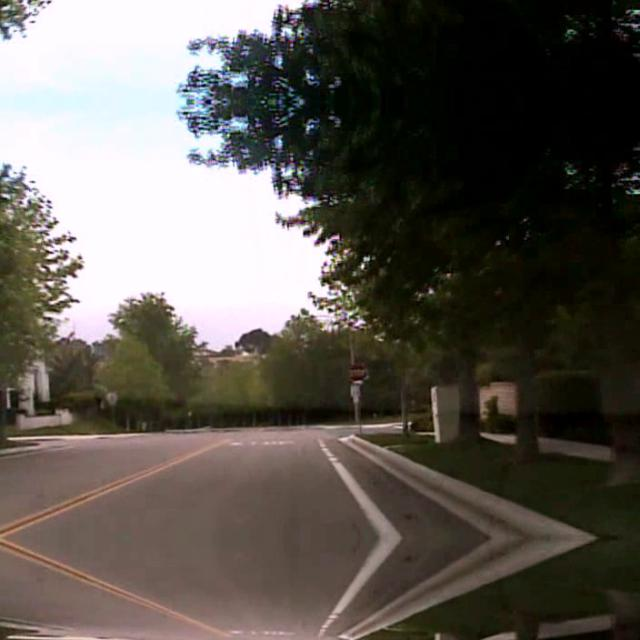stop: (346, 362, 366, 380)
